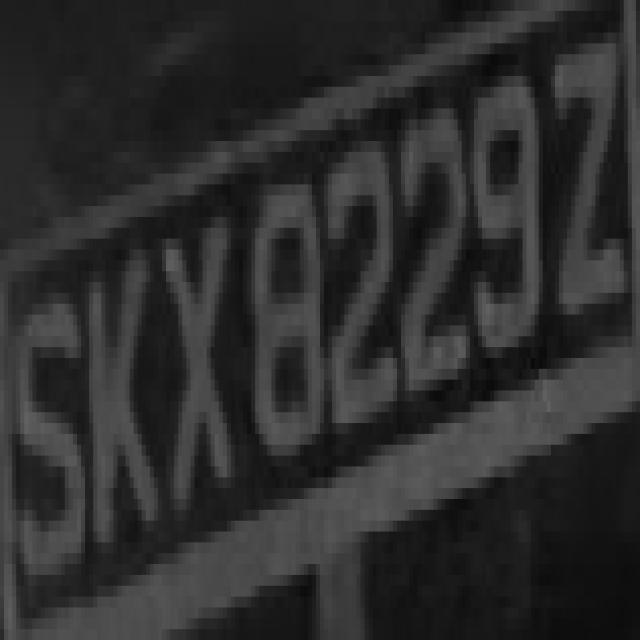2: (320, 108, 401, 456), (393, 98, 470, 423)
8: (235, 152, 324, 499)
9: (470, 54, 547, 391)
K: (81, 195, 154, 564)
S: (12, 217, 85, 640)
X: (158, 174, 235, 564)
Z: (543, 0, 632, 391)
